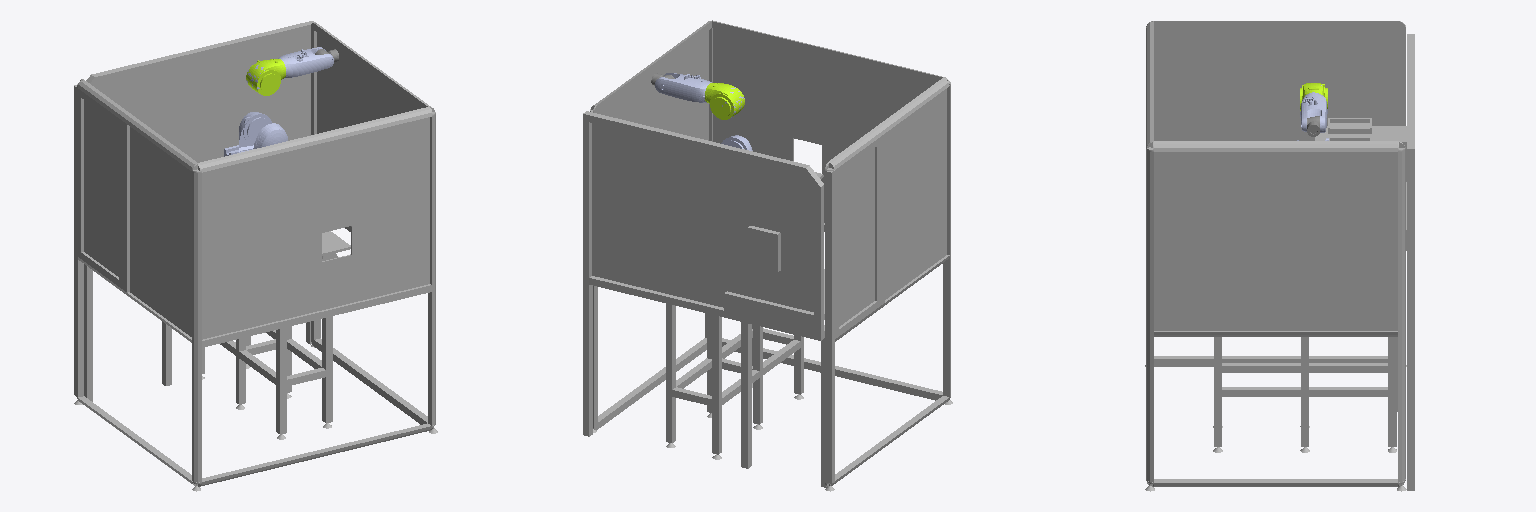
robot.urdf — kuka_urdf:
<?xml version="1.0" encoding="utf-8"?>
<!-- This URDF was automatically created by SolidWorks to URDF Exporter! Originally created by [author] ([email redacted]) 
     Commit Version: 1.5.1-0-g916b5db  Build Version: 1.5.7152.31018
     For more information, please see http://wiki.ros.org/sw_urdf_exporter -->
<robot
  name="kuka_urdf">
  <link name="base_footprint">
    <visual>
      <origin rpy="0 0 0" xyz="0 0 0"/>
      <geometry>
        <box size="0.001 0.001 0.001"/>
      </geometry>
    </visual>
  </link>
  <joint name="base_footprint_joint" type="fixed">
    <origin rpy="0 0 0" xyz="0 0 0"/>
    <child link="base_link"/>
    <parent link="base_footprint"/>
  </joint>
  <link
    name="base_link">
    <inertial>
      <origin
        xyz="0.59314 -0.42692 1.1129"
        rpy="0 0 0" />
      <mass
        value="171.31" />
      <inertia
        ixx="15.428"
        ixy="-0.76999"
        ixz="-0.33475"
        iyy="21.095"
        iyz="-0.21784"
        izz="14.683" />
    </inertial>
    <visual>
      <origin
        xyz="0 0 0"
        rpy="0 0 0" />
      <geometry>
        <mesh
          filename="package://kuka_urdf/meshes/base_link.STL" />
      </geometry>
      <material
        name="">
        <color
          rgba="0.75294 0.75294 0.75294 1" />
      </material>
    </visual>
    <collision>
      <origin
        xyz="0 0 0"
        rpy="0 0 0" />
      <geometry>
        <mesh
          filename="package://kuka_urdf/meshes/base_link.STL" />
      </geometry>
    </collision>
  </link>
  <link
    name="Link1">
    <inertial>
      <origin
        xyz="0.0079674 0.0020187 0.11572"
        rpy="0 0 0" />
      <mass
        value="6.2753" />
      <inertia
        ixx="0.076205"
        ixy="9.8219E-06"
        ixz="-0.0053005"
        iyy="0.050077"
        iyz="-0.00051504"
        izz="0.056269" />
    </inertial>
    <visual>
      <origin
        xyz="0 0 0"
        rpy="0 0 0" />
      <geometry>
        <mesh
          filename="package://kuka_urdf/meshes/Link1.STL" />
      </geometry>
      <material
        name="">
        <color
          rgba="0.79216 0.81961 0.93333 1" />
      </material>
    </visual>
    <collision>
      <origin
        xyz="0 0 0"
        rpy="0 0 0" />
      <geometry>
        <mesh
          filename="package://kuka_urdf/meshes/Link1.STL" />
      </geometry>
    </collision>
  </link>
  <joint
    name="Joint1"
    type="revolute">
    <origin
      xyz="0.8275 -0.43219 1.3595"
      rpy="0 0 0" />
    <parent
      link="base_link" />
    <child
      link="Link1" />
    <axis
      xyz="0 0 1" />
    <limit
      lower="-3.14"
      upper="3.14"
      effort="500"
      velocity="3.14" />
  </joint>
  <link
    name="Link2">
    <inertial>
      <origin
        xyz="-0.0052547 -0.0058195 0.13144"
        rpy="0 0 0" />
      <mass
        value="7.3626" />
      <inertia
        ixx="0.15142"
        ixy="-1.4972E-05"
        ixz="0.00086898"
        iyy="0.13564"
        iyz="0.0016836"
        izz="0.038488" />
    </inertial>
    <visual>
      <origin
        xyz="0 0 0"
        rpy="0 0 0" />
      <geometry>
        <mesh
          filename="package://kuka_urdf/meshes/Link2.STL" />
      </geometry>
      <material
        name="">
        <color
          rgba="0.79216 0.81961 0.93333 1" />
      </material>
    </visual>
    <collision>
      <origin
        xyz="0 0 0"
        rpy="0 0 0" />
      <geometry>
        <mesh
          filename="package://kuka_urdf/meshes/Link2.STL" />
      </geometry>
    </collision>
  </link>
  <joint
    name="Joint2"
    type="revolute">
    <origin
      xyz="0.025 0 0.183"
      rpy="0 0 0" />
    <parent
      link="Link1" />
    <child
      link="Link2" />
    <axis
      xyz="0 -1 0" />
    <limit
      lower="-3.14"
      upper="3.14"
      effort="500"
      velocity="3.14" />
  </joint>
  <link
    name="Link3">
    <inertial>
      <origin
        xyz="0.0158897369187757 0.00377551618976696 0.0103622040607538"
        rpy="0 0 0" />
      <mass
        value="2.90698496734874" />
      <inertia
        ixx="0.00835937630352445"
        ixy="3.5250457681856E-05"
        ixz="-0.00140858847686176"
        iyy="0.0112132449448129"
        iyz="1.88954255172529E-05"
        izz="0.0100277382418828" />
    </inertial>
    <visual>
      <origin
        xyz="0 0 0"
        rpy="0 0 0" />
      <geometry>
        <mesh
          filename="package://kuka_urdf/meshes/Link3.STL" />
      </geometry>
      <material
        name="">
        <color
          rgba="0.8 1 0.2 1" />
      </material>
    </visual>
    <collision>
      <origin
        xyz="0 0 0"
        rpy="0 0 0" />
      <geometry>
        <mesh
          filename="package://kuka_urdf/meshes/Link3.STL" />
      </geometry>
    </collision>
  </link>
  <joint
    name="Joint3"
    type="revolute">
    <origin
      xyz="0 0 0.315"
      rpy="0 0 0" />
    <parent
      link="Link2" />
    <child
      link="Link3" />
    <axis
      xyz="0 -1 0" />
    <limit
      lower="-3.14"
      upper="3.14"
      effort="500"
      velocity="3.14" />
  </joint>
  <link
    name="Link4">
    <inertial>
      <origin
        xyz="0.123981724214701 0.0034688211324434 0.000289159358459745"
        rpy="0 0 0" />
      <mass
        value="2.75654210425904" />
      <inertia
        ixx="0.00584711964625554"
        ixy="-0.000156323136874248"
        ixz="5.19522467907723E-06"
        iyy="0.0156113113263976"
        iyz="1.44373593566699E-05"
        izz="0.0172713088405886" />
    </inertial>
    <visual>
      <origin
        xyz="0 0 0"
        rpy="0 0 0" />
      <geometry>
        <mesh
          filename="package://kuka_urdf/meshes/Link4.STL" />
      </geometry>
      <material
        name="">
        <color
          rgba="0.792156862745098 0.819607843137255 0.933333333333333 1" />
      </material>
    </visual>
    <collision>
      <origin
        xyz="0 0 0"
        rpy="0 0 0" />
      <geometry>
        <mesh
          filename="package://kuka_urdf/meshes/Link4.STL" />
      </geometry>
    </collision>
  </link>
  <joint
    name="Joint4"
    type="revolute">
    <origin
      xyz="0.10695 0.003 0.035"
      rpy="0 0 0" />
    <parent
      link="Link3" />
    <child
      link="Link4" />
    <axis
      xyz="-1 0 0" />
    <limit
      lower="-3.14"
      upper="3.14"
      effort="500"
      velocity="3.14" />
  </joint>
  <link
    name="Link5">
    <inertial>
      <origin
        xyz="0.0157891702201667 0.00191367544264814 -3.03958143459404E-05"
        rpy="0 0 0" />
      <mass
        value="0.442067197041372" />
      <inertia
        ixx="0.000318420757784039"
        ixy="1.663144203727E-05"
        ixz="3.2063967174793E-07"
        iyy="0.000528480030475778"
        iyz="3.23079721639523E-07"
        izz="0.000562282896446415" />
    </inertial>
    <visual>
      <origin
        xyz="0 0 0"
        rpy="0 0 0" />
      <geometry>
        <mesh
          filename="package://kuka_urdf/meshes/Link5.STL" />
      </geometry>
      <material
        name="">
        <color
          rgba="0.792156862745098 0.819607843137255 0.933333333333333 1" />
      </material>
    </visual>
    <collision>
      <origin
        xyz="0 0 0"
        rpy="0 0 0" />
      <geometry>
        <mesh
          filename="package://kuka_urdf/meshes/Link5.STL" />
      </geometry>
    </collision>
  </link>
  <joint
    name="Joint5"
    type="revolute">
    <origin
      xyz="0.25805 0 0"
      rpy="0 0 0" />
    <parent
      link="Link4" />
    <child
      link="Link5" />
    <axis
      xyz="0 1 0" />
    <limit
      lower="-3.14"
      upper="3.14"
      effort="500"
      velocity="3.14" />
  </joint>
  <link
    name="Link6">
    <inertial>
      <origin
        xyz="0.005980331956146 3.33066907387547E-16 4.3140731314173E-05"
        rpy="0 0 0" />
      <mass
        value="0.0139949492210214" />
      <inertia
        ixx="3.02502810414478E-06"
        ixy="-3.7277595740986E-21"
        ixz="-8.56055866655071E-10"
        iyy="1.71731248188302E-06"
        iyz="1.43466354682744E-22"
        izz="1.70788961196181E-06" />
    </inertial>
    <visual>
      <origin
        xyz="0 0 0"
        rpy="0 0 0" />
      <geometry>
        <mesh
          filename="package://kuka_urdf/meshes/Link6.STL" />
      </geometry>
      <material
        name="">
        <color
          rgba="0.6 0.6 0.6 1" />
      </material>
    </visual>
    <collision>
      <origin
        xyz="0 0 0"
        rpy="0 0 0" />
      <geometry>
        <mesh
          filename="package://kuka_urdf/meshes/Link6.STL" />
      </geometry>
    </collision>
  </link>
  <joint
    name="Joint6"
    type="revolute">
    <origin
      xyz="0.0665 0 0"
      rpy="0 0 0" />
    <parent
      link="Link5" />
    <child
      link="Link6" />
    <axis
      xyz="1 0 0" />
    <limit
      lower="-3.14"
      upper="3.14"
      effort="500"
      velocity="3.14" />
  </joint>
</robot>

--- Render facts (derived) ---
Views: 3 orthographic renders of the robot side by side, from view 1: azimuth 30°, elevation 25°; view 2: azimuth 150°, elevation 25°; view 3: azimuth 270°, elevation 25°.
Robot: kuka_urdf — 8 links, 7 joints (6 revolute, 1 fixed); root link base_footprint; default pose: all joints at 0.
Links seen in each view (by area): view 1: base_link, Link2, Link5, Link3; view 2: base_link, Link5, Link3; view 3: base_link, Link5.
Boxes of the visible links, x1,y1,x2,y2 form: base_link: (74,21,437,491); Link2: (239,112,287,152); Link5: (278,47,333,78); Link3: (246,59,285,95); base_link: (583,20,952,491); Link5: (655,73,711,102); Link3: (705,83,744,119); base_link: (1145,21,1414,491); Link5: (1300,92,1327,132).
Size in the robot's own frame: 1.49 by 1.33 by 1.97 metres.
Meshes: 7 distinct files referenced, 7 mesh visuals loaded (7 binary STL).